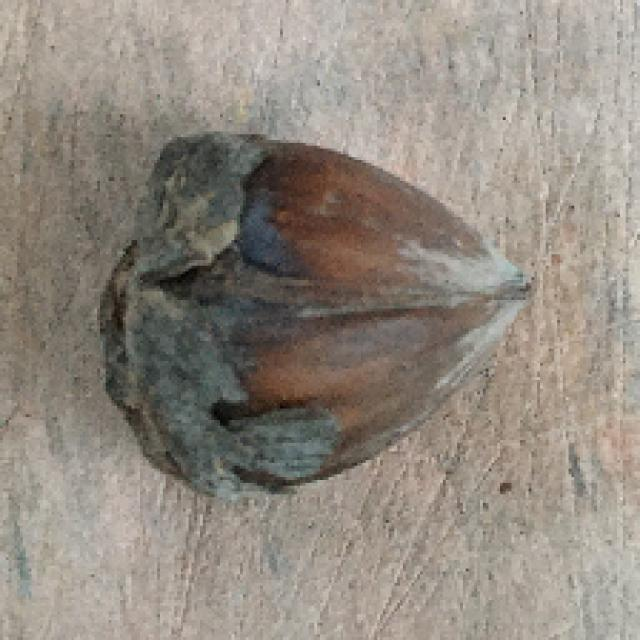damagedHazelnut: (96, 133, 536, 502)
